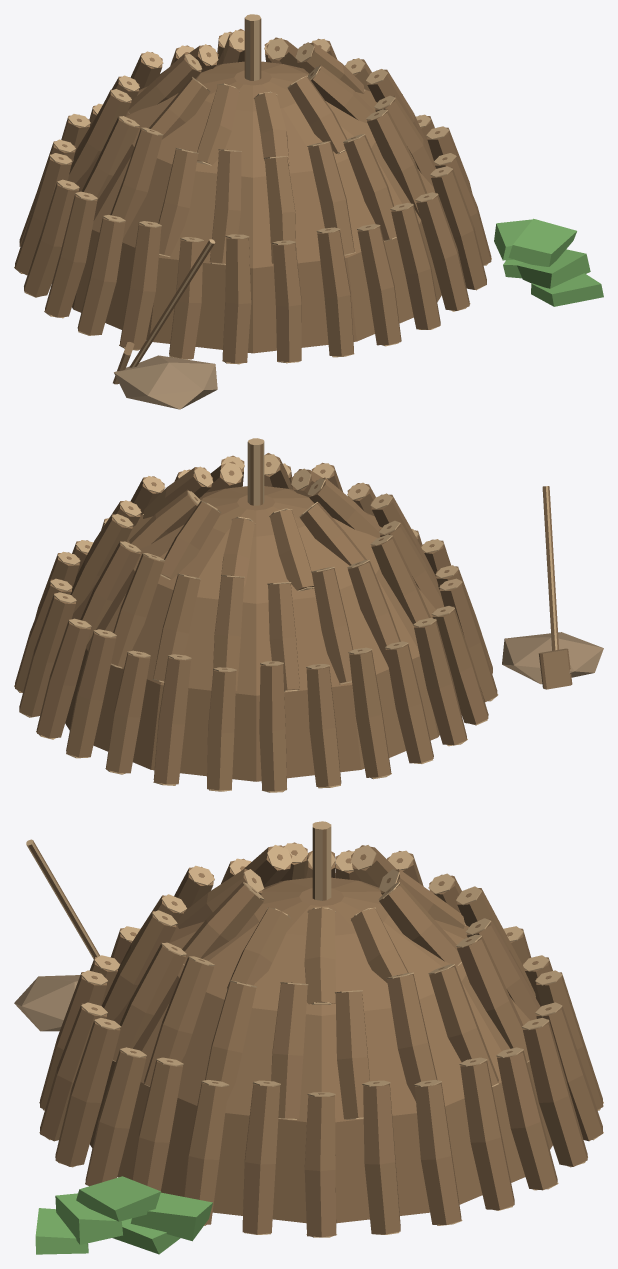
The model's file is asset_charcoal_clamp_idle.glb.
3 renders of one model, top to bottom at view 1: azimuth 30°, elevation 25°; view 2: azimuth 150°, elevation 25°; view 3: azimuth 270°, elevation 25°, orthographic. The views are drawn at different scales.
Visible parts, largest first — view 1: asset_charcoal_clamp_idle; view 2: asset_charcoal_clamp_idle; view 3: asset_charcoal_clamp_idle.
Boxes of the visible parts, x1,y1,x2,y2 form: asset_charcoal_clamp_idle: (14,14,603,409); asset_charcoal_clamp_idle: (14,438,603,792); asset_charcoal_clamp_idle: (14,821,603,1254).
Size of the model in its own units: 2.86 by 1.45 by 2.63.
